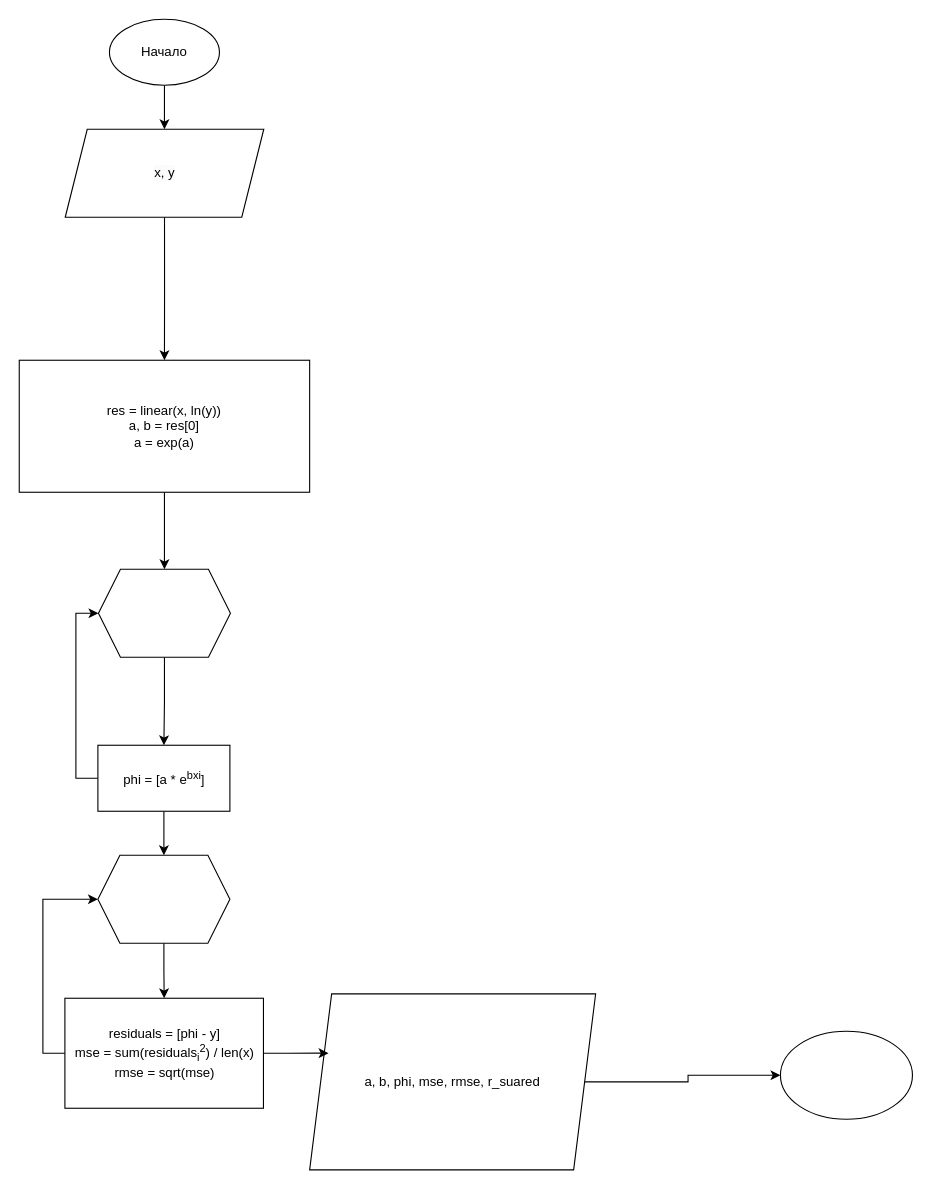
The diagram is 932 pixels wide and 1189 high, and some of its shapes have lost their labels. Each missing label, with the centre of its shape:
for ph in phi and yi in y: the point at 163,898
for xi in x: the point at 163,612
конец: the point at 845,1074
